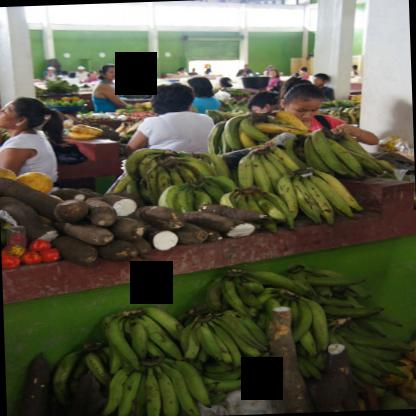backpack: (313, 115, 332, 130)
